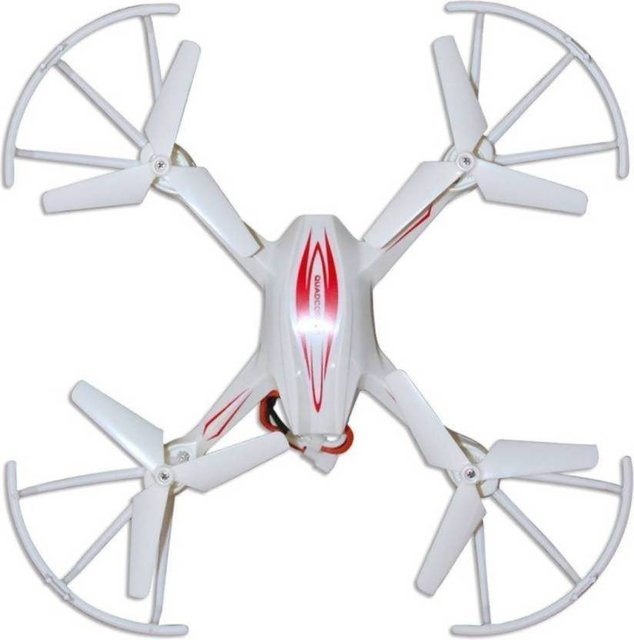drone: (3, 1, 634, 639)
